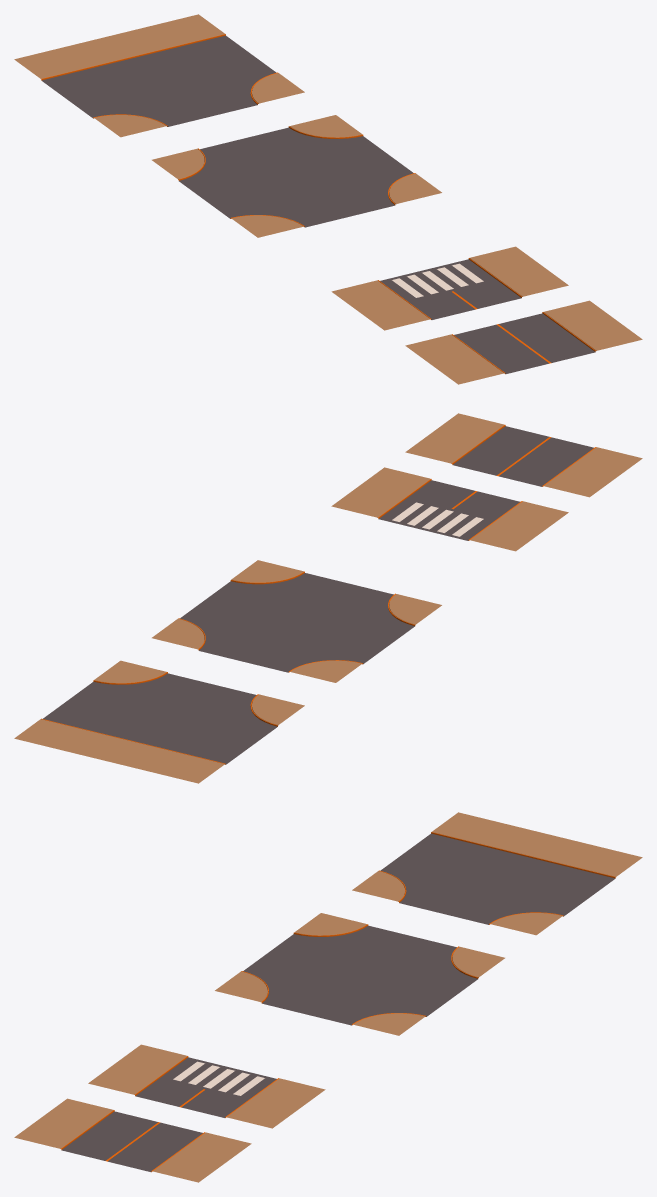
File: Road_complete_1.fbx
3 views of the same model, one above another, from view 1: azimuth 30°, elevation 25°; view 2: azimuth 150°, elevation 25°; view 3: azimuth 330°, elevation 25° (orthographic).
Parts seen in each view (by area): view 1: Road.01_h.007, Road.01_h.001, Road.01_h.005, Road.01_h.003; view 2: Road.01_h.001, Road.01_h.007, Road.01_h.005, Road.01_h.003; view 3: Road.01_h.007, Road.01_h.001, Road.01_h.005, Road.01_h.003.
Part boxes in pixels (x1,y1,x2,y2): Road.01_h.007: (14,14,304,137); Road.01_h.001: (152,115,441,237); Road.01_h.005: (331,246,568,330); Road.01_h.003: (405,300,642,384); Road.01_h.001: (152,560,441,682); Road.01_h.007: (14,660,304,783); Road.01_h.005: (331,467,568,551); Road.01_h.003: (405,413,642,497); Road.01_h.007: (352,812,642,935); Road.01_h.001: (215,913,504,1035); Road.01_h.005: (88,1044,325,1128); Road.01_h.003: (14,1098,251,1182).
Size of the model in its own units: 1600 by 6670 by 10.14.
